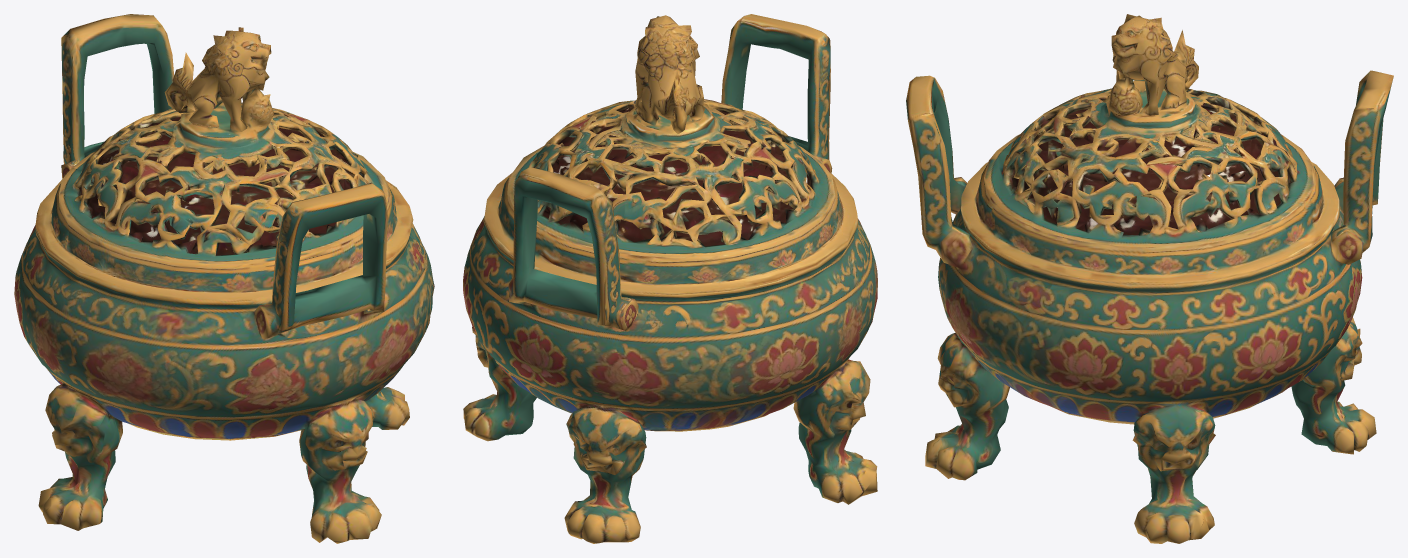
Rendered from censer.glb.
The picture shows the model from 3 angles, left to right: view 1: azimuth 30°, elevation 25°; view 2: azimuth 150°, elevation 25°; view 3: azimuth 270°, elevation 25°; orthographic projection.
Parts seen in each view (by area): view 1: kusuriuri; view 2: kusuriuri; view 3: kusuriuri.
Boxes of the visible parts, left/top/right/bottom form: kusuriuri: left=14, top=14, right=434, bottom=543; kusuriuri: left=463, top=14, right=877, bottom=543; kusuriuri: left=906, top=14, right=1393, bottom=543.
Size of the model in its own units: 1.11 by 1.2 by 1.2.
Materials: 1 (1 with a texture image).
